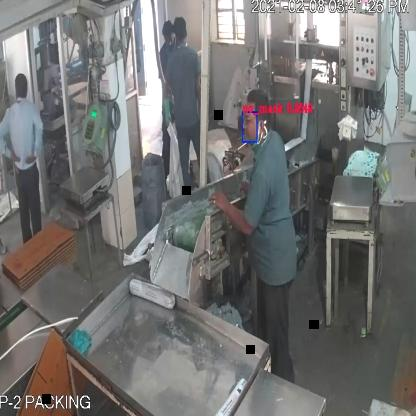no_glove: (208, 183, 260, 247)
